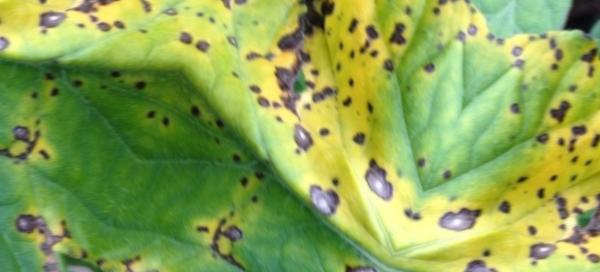Tomato Septoria leaf spot: (50, 0, 519, 272)
